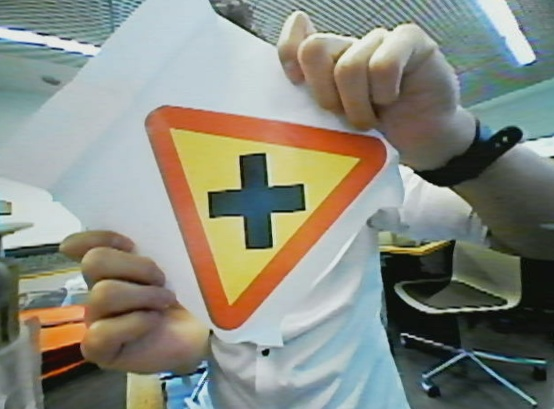junction: (133, 96, 406, 333)
